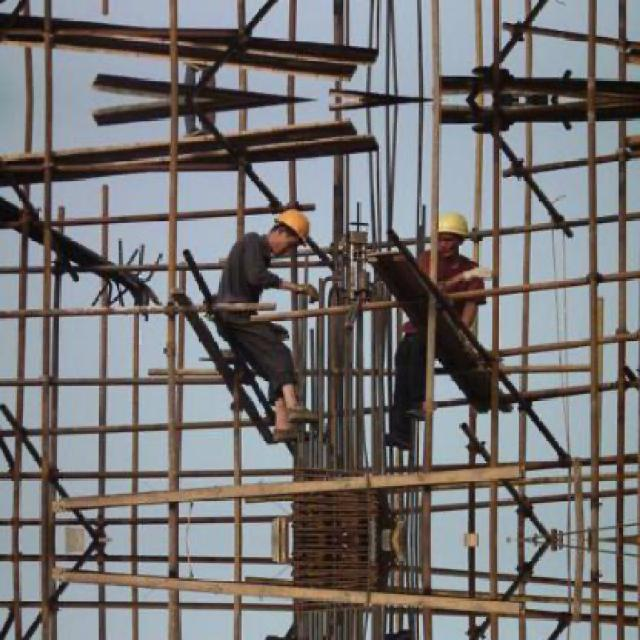con casco: (386, 200, 497, 280), (250, 191, 337, 255)
